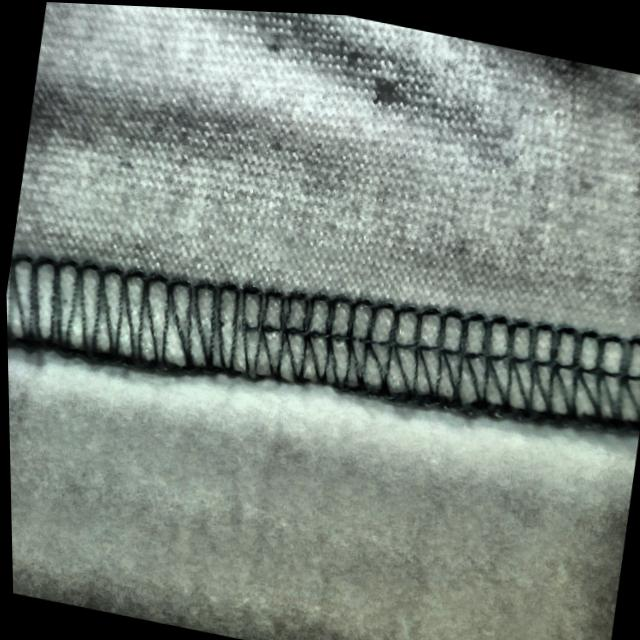Stitch: (41, 224, 502, 441)
